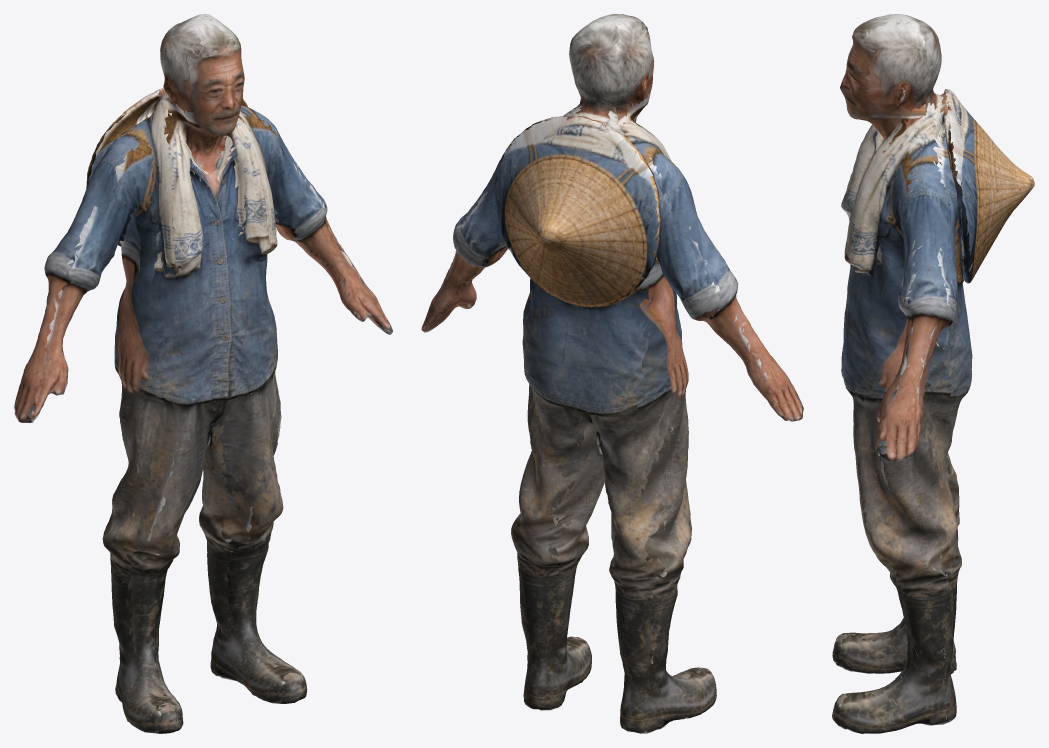
Rendered from old_v2.glb.
3 renders of one model, left to right at view 1: azimuth 30°, elevation 25°; view 2: azimuth 150°, elevation 25°; view 3: azimuth 270°, elevation 25°, orthographic.
Parts seen in each view (by area): view 1: geometry_0; view 2: geometry_0; view 3: geometry_0.
Part boxes in pixels (bbox=[...]): geometry_0: bbox=[14, 14, 392, 733]; geometry_0: bbox=[421, 14, 803, 733]; geometry_0: bbox=[832, 14, 1034, 733].
Size of the model in its own units: 1.13 by 1.96 by 0.5335.
Materials: 1 (1 with a texture image).
